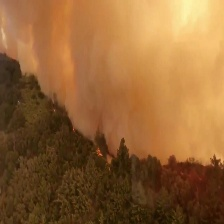fire: (92, 144, 105, 156)
smoke: (1, 1, 224, 165)
